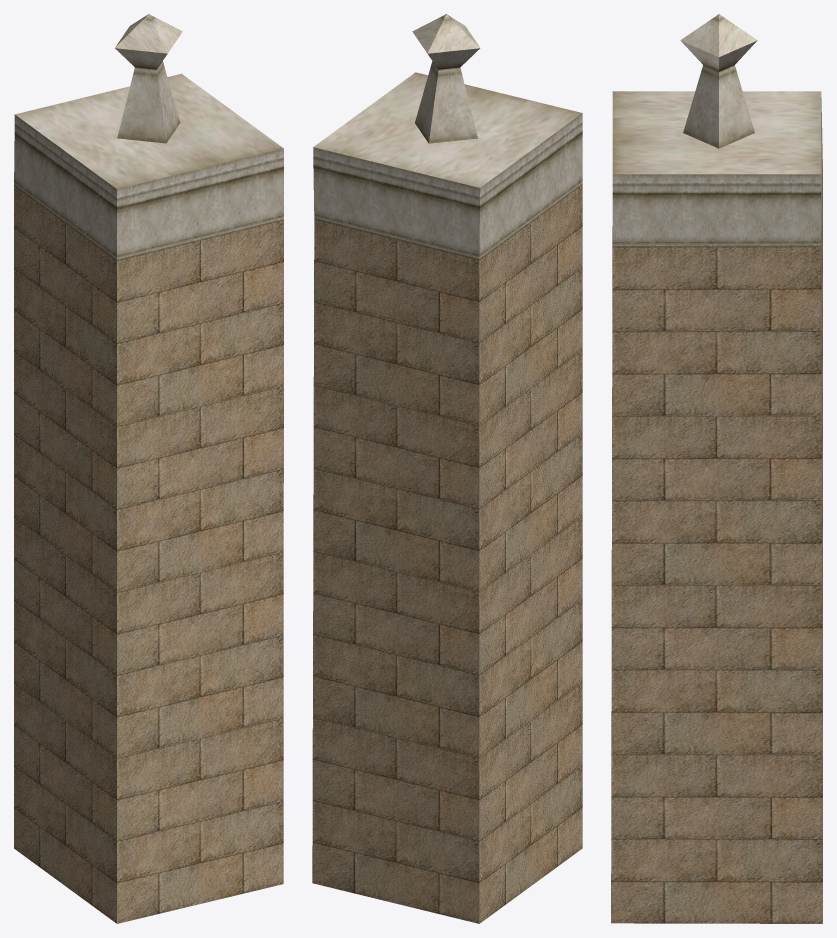
The model's file is thm_nboo_imprv_pillar_s01_l2.fbx.
3 renders of one model, left to right at view 1: azimuth 30°, elevation 25°; view 2: azimuth 150°, elevation 25°; view 3: azimuth 270°, elevation 25°, orthographic. The views are drawn at different scales.
Parts seen in each view (by area): view 1: mesh_node; view 2: mesh_node; view 3: mesh_node.
Part boxes in pixels (x1,y1,x2,y2): mesh_node: (14,14,283,923); mesh_node: (312,14,582,923); mesh_node: (611,14,822,923).
Bounding box in the file's own units: 2.03 × 9.9 × 2.19.
1 material, 1 textured.
